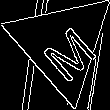M_NW: (29, 10, 95, 79)
